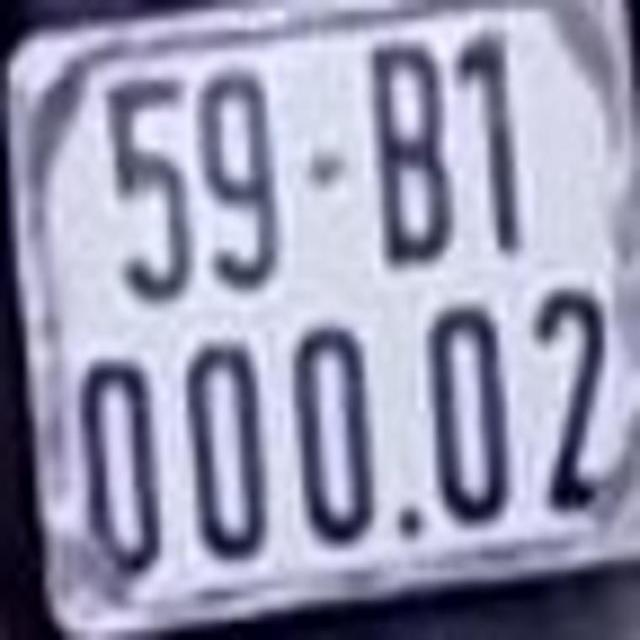0: (72, 351, 164, 586), (293, 322, 379, 560), (181, 337, 269, 569), (427, 303, 507, 523)
1: (456, 27, 532, 274)
2: (532, 273, 626, 521)
5: (104, 76, 188, 302)
9: (193, 69, 287, 294)
B: (364, 31, 456, 275)
